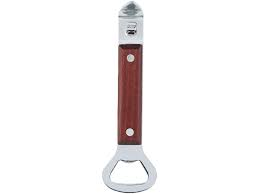bottleopener: (101, 2, 158, 193)
